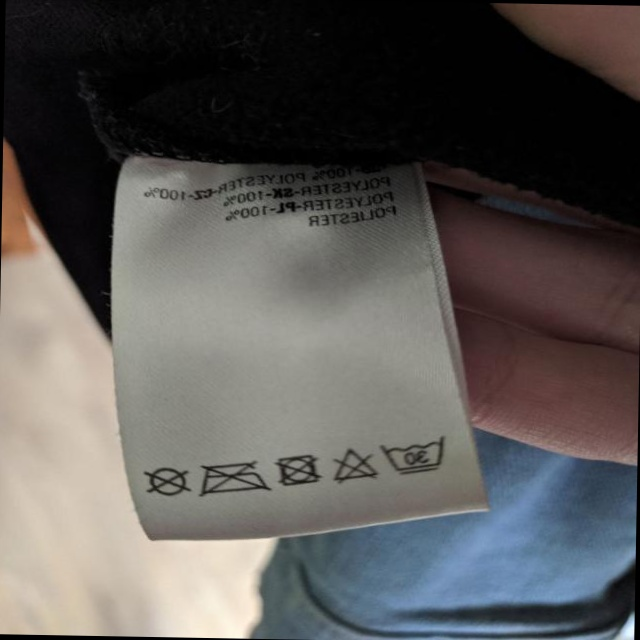30C: (381, 426, 450, 476)
DN_bleach: (332, 443, 379, 488)
DN_dry_clean: (143, 462, 190, 501)
DN_iron: (198, 461, 269, 499)
DN_tumble_dry: (276, 449, 324, 492)
